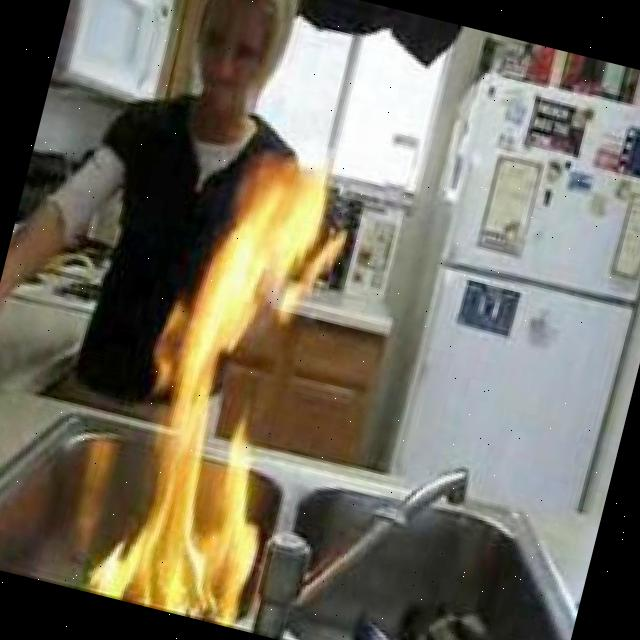fire: (90, 138, 352, 630)
